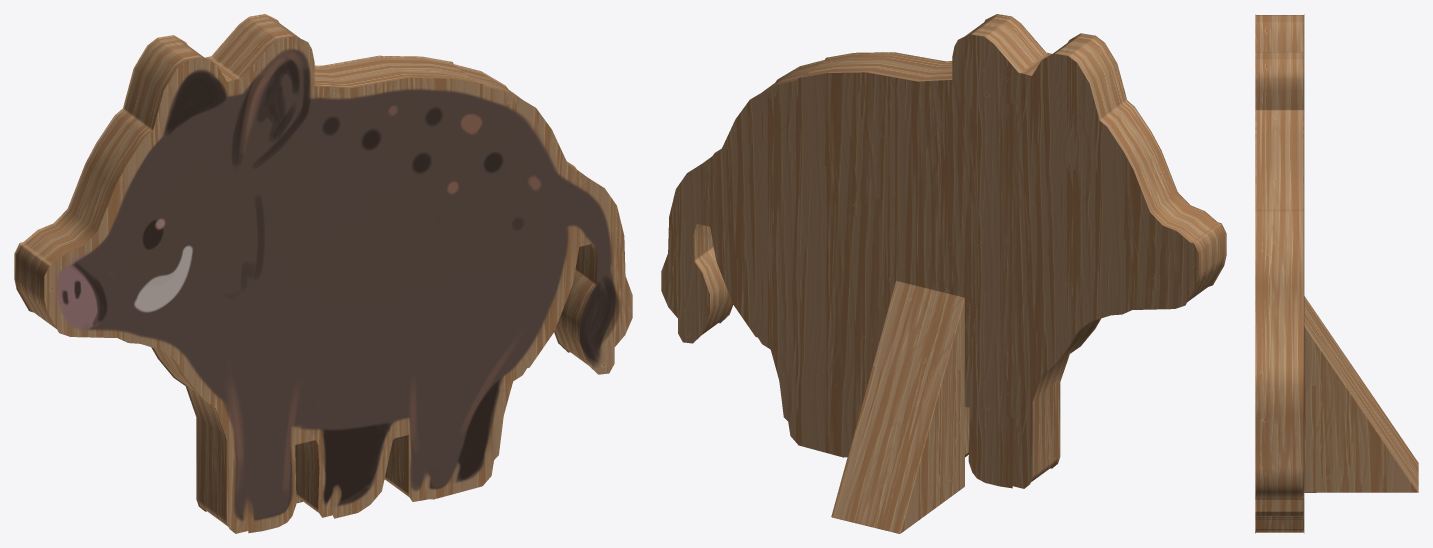
File: boar_frame_0.glb
The picture shows the model from 3 angles, left to right: view 1: azimuth 30°, elevation 25°; view 2: azimuth 150°, elevation 25°; view 3: azimuth 270°, elevation 25°; orthographic projection. The views are drawn at different scales.
Visible parts, largest first — view 1: boar_frame_0_Block; view 2: boar_frame_0_Block, boar_frame_0_RearBrace; view 3: boar_frame_0_Block, boar_frame_0_RearBrace.
Part boxes in pixels (x1=…): boar_frame_0_Block: x1=14, y1=14, x2=632, y2=533; boar_frame_0_Block: x1=661, y1=14, x2=1226, y2=488; boar_frame_0_RearBrace: x1=831, y1=281, x2=964, y2=533; boar_frame_0_Block: x1=1255, y1=14, x2=1304, y2=533; boar_frame_0_RearBrace: x1=1304, y1=296, x2=1418, y2=492.
Size of the model in its own units: 2.24 by 1.82 by 0.6667.
Materials: 1 (1 with a texture image).
